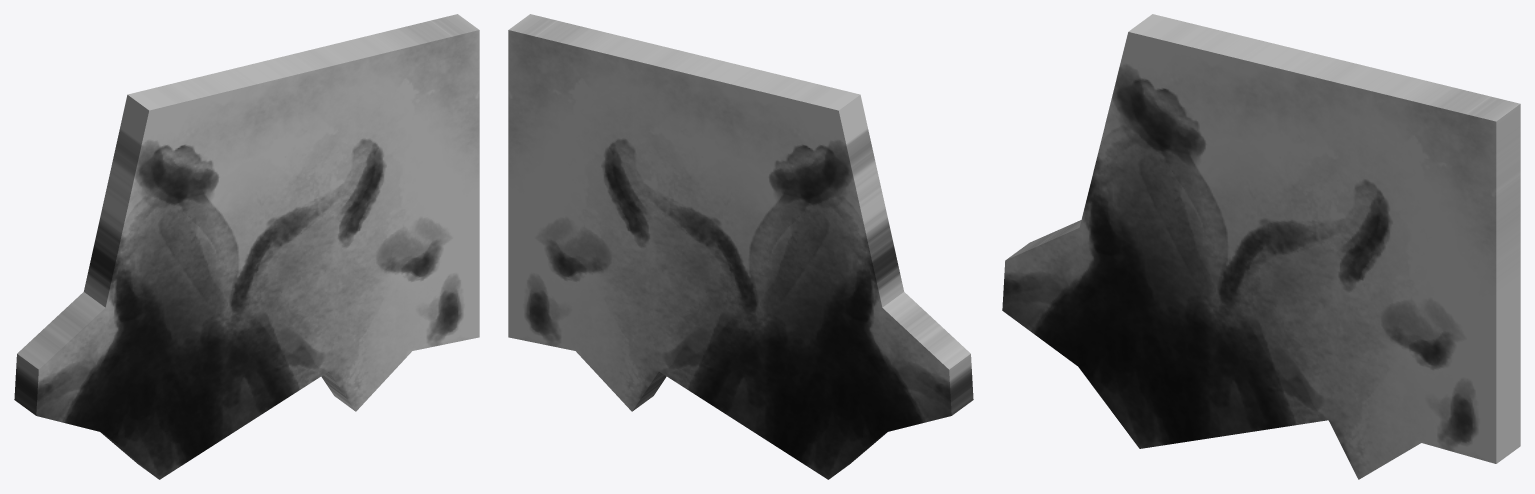
File: Rorschachtest 2.fbx
3 views of the same model, side by side, from view 1: azimuth 30°, elevation 25°; view 2: azimuth 150°, elevation 25°; view 3: azimuth 330°, elevation 25° (orthographic). The views are drawn at different scales.
Parts seen in each view (by area): view 1: Rohrschachtest 2; view 2: Rohrschachtest 2; view 3: Rohrschachtest 2.
Part boxes in pixels (left/top/right/bottom): Rohrschachtest 2: left=14, top=14, right=479, bottom=479; Rohrschachtest 2: left=508, top=14, right=973, bottom=479; Rohrschachtest 2: left=1002, top=14, right=1520, bottom=479.
Bounding box in the file's own units: 24.94 × 20 × 2.13.
